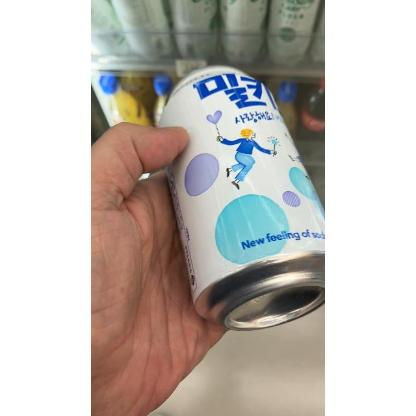Can: (157, 64, 325, 332)
